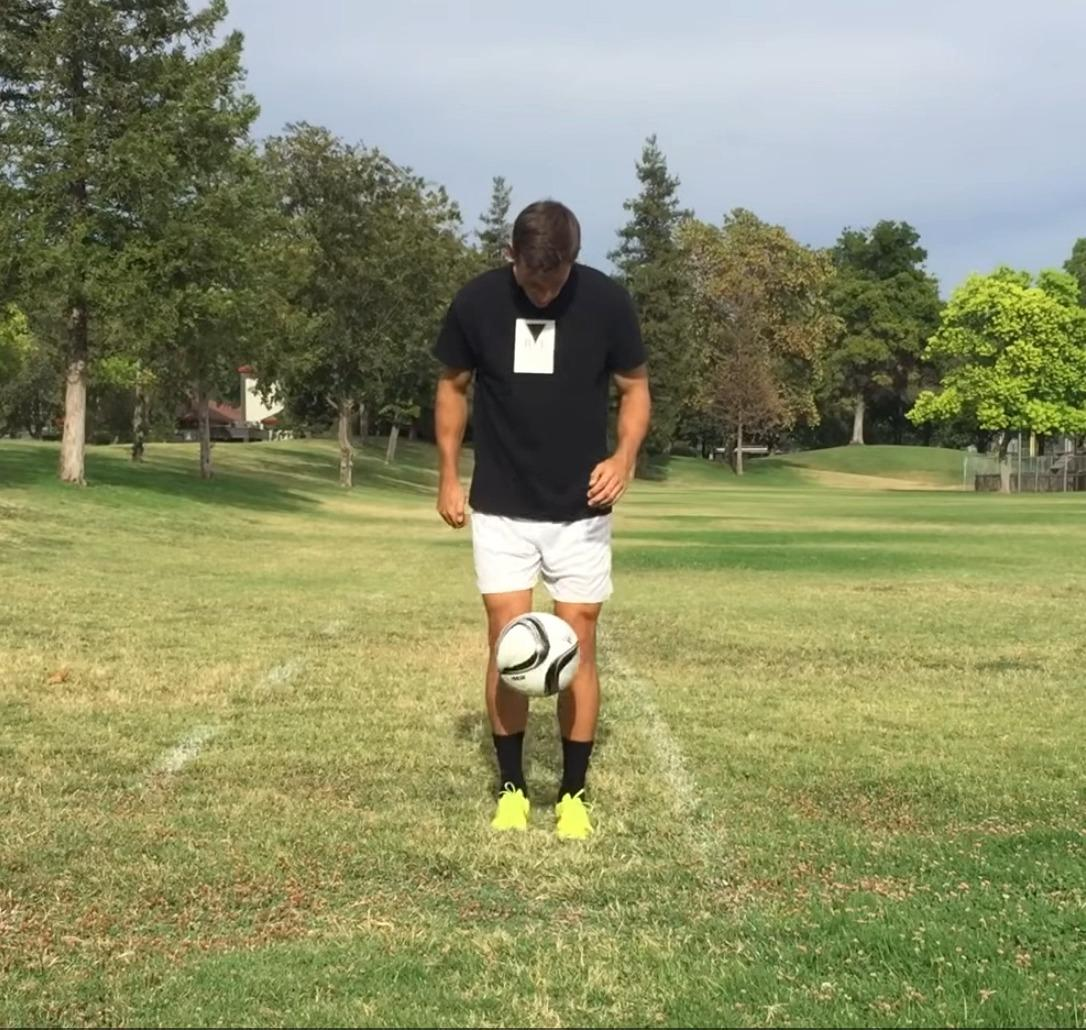ball: (494, 612, 579, 691)
foot: (488, 780, 533, 837), (553, 788, 591, 841)
person: (435, 202, 653, 824)
